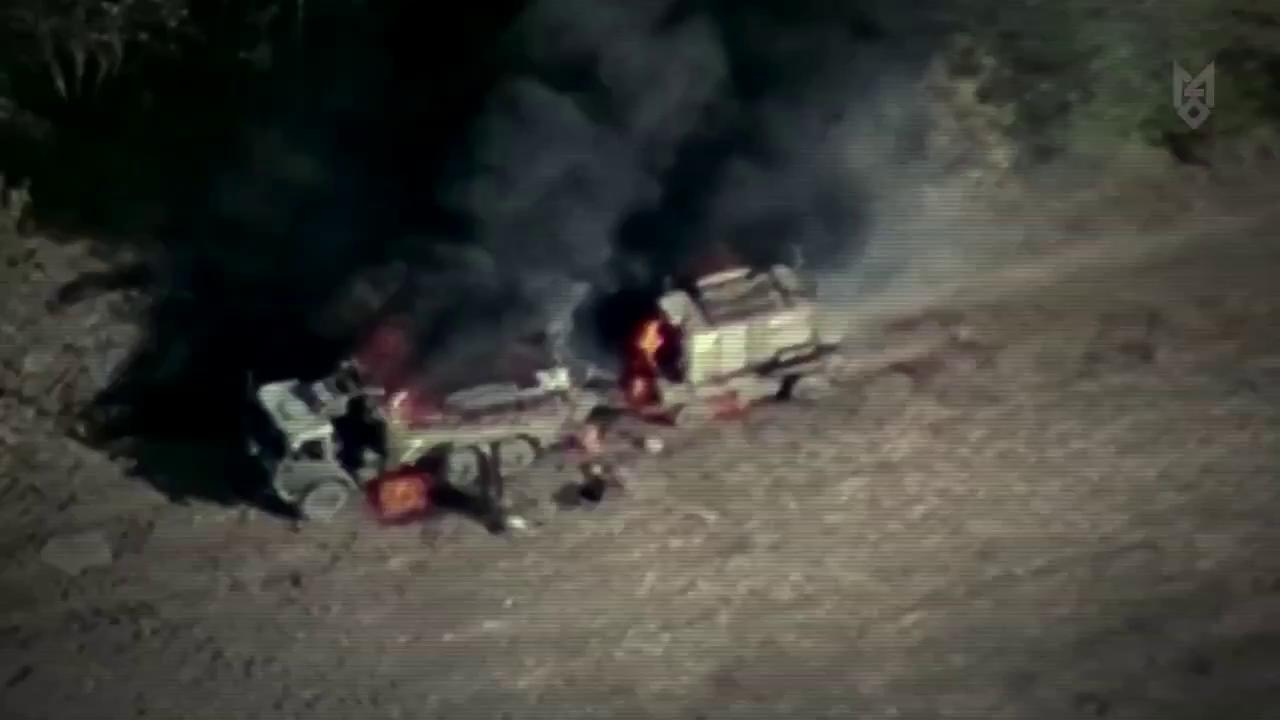tank: (247, 335, 596, 525), (636, 253, 836, 435)
